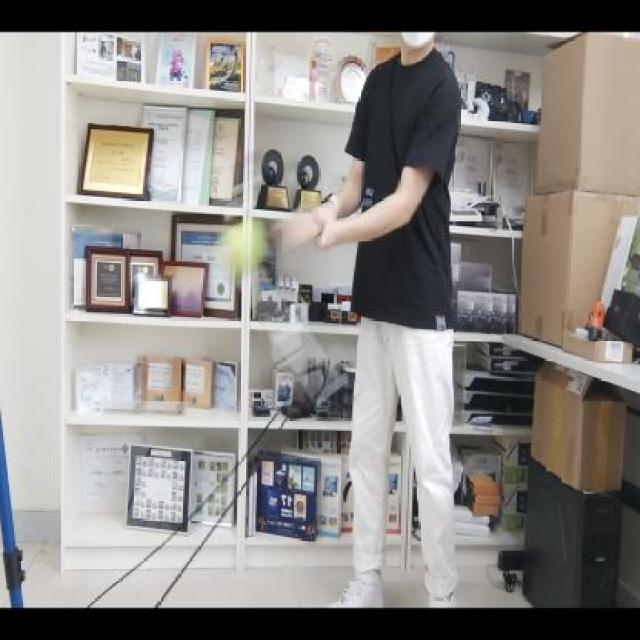baseball: (214, 216, 272, 284)
